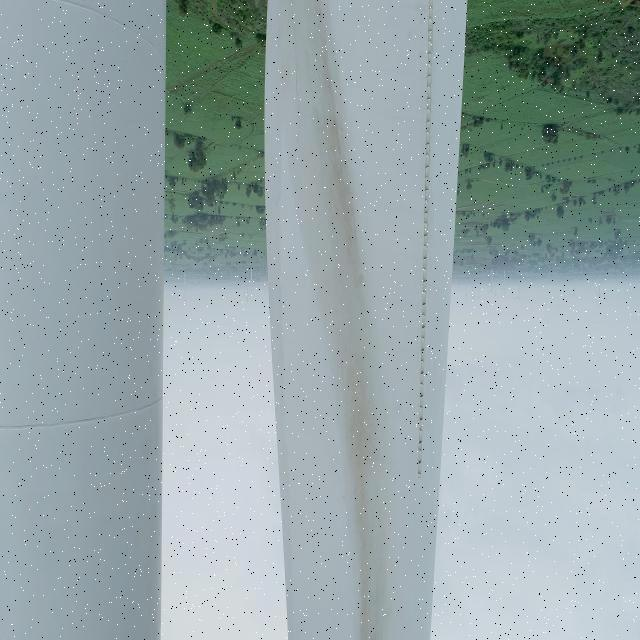Dirt: (266, 0, 395, 639)
